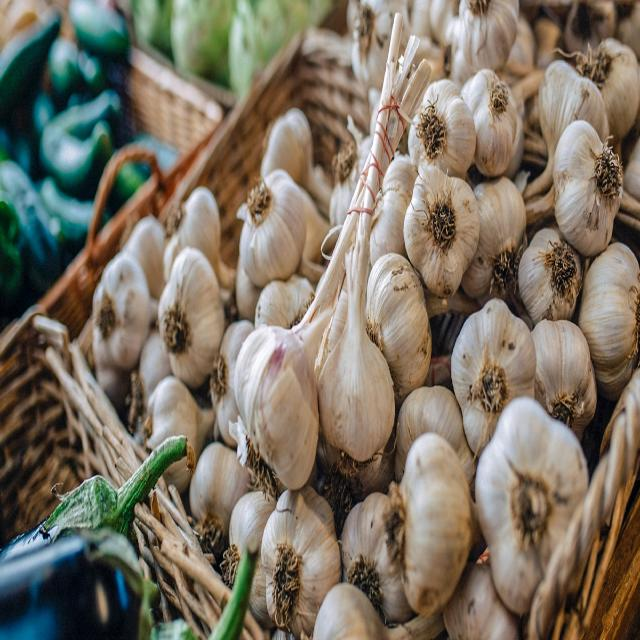garlic: (235, 170, 367, 488), (475, 396, 589, 615), (318, 215, 395, 461), (385, 432, 478, 616), (451, 299, 536, 456), (522, 60, 609, 201), (261, 487, 340, 638), (210, 320, 294, 445), (404, 165, 480, 299), (366, 253, 431, 406), (92, 251, 151, 413), (552, 119, 621, 256), (159, 246, 225, 387), (341, 492, 412, 623), (395, 387, 476, 493), (461, 177, 526, 300), (238, 170, 306, 287), (531, 320, 596, 439), (576, 38, 640, 146), (409, 79, 476, 178), (445, 0, 519, 86), (519, 229, 581, 325), (461, 69, 516, 177), (148, 375, 215, 459), (255, 275, 314, 330), (165, 461, 191, 492)
